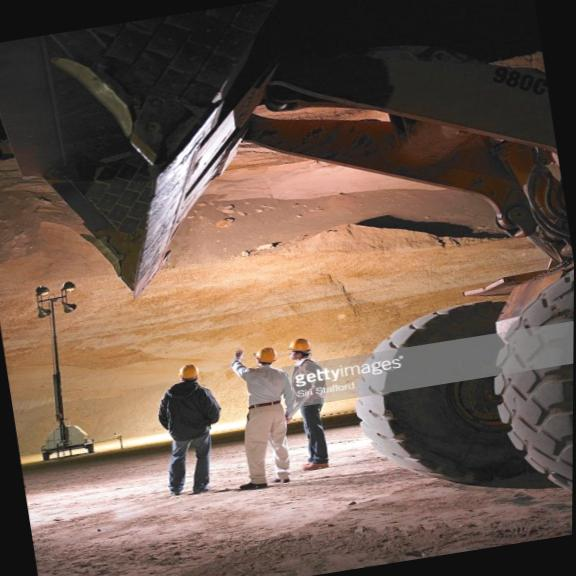no_safety_vest: (152, 378, 223, 444), (238, 362, 293, 414), (286, 355, 333, 414)
